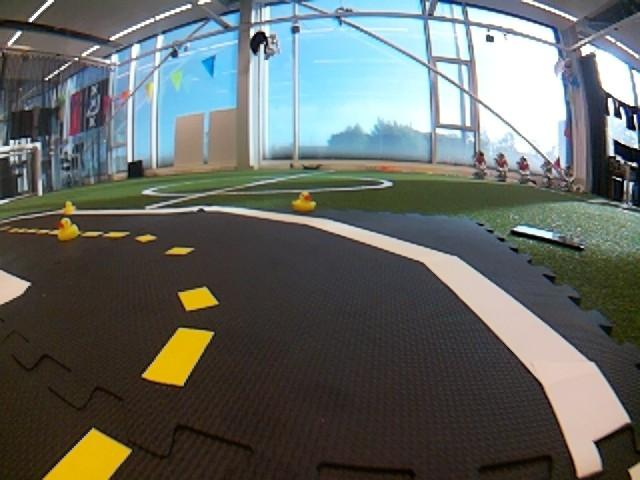Duckies: (57, 218, 79, 241), (292, 191, 316, 211), (62, 201, 76, 213)
